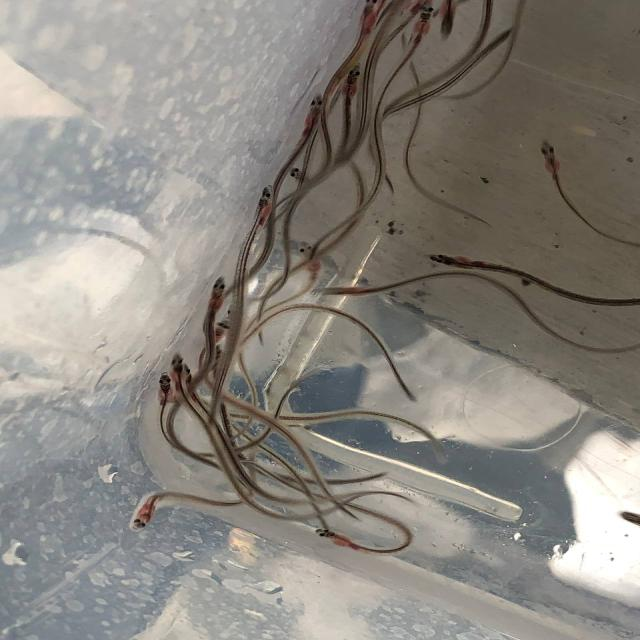glass_eel: (406, 2, 438, 40), (425, 252, 483, 272), (336, 62, 365, 100), (537, 136, 564, 176), (432, 0, 457, 41), (130, 498, 158, 534), (250, 183, 275, 223), (311, 282, 366, 300), (355, 0, 384, 34), (166, 353, 191, 392), (297, 239, 324, 274), (303, 90, 326, 129), (204, 275, 230, 309), (316, 528, 360, 548), (153, 369, 178, 401), (212, 315, 234, 344), (614, 508, 640, 528), (211, 344, 224, 374), (286, 167, 309, 183)
